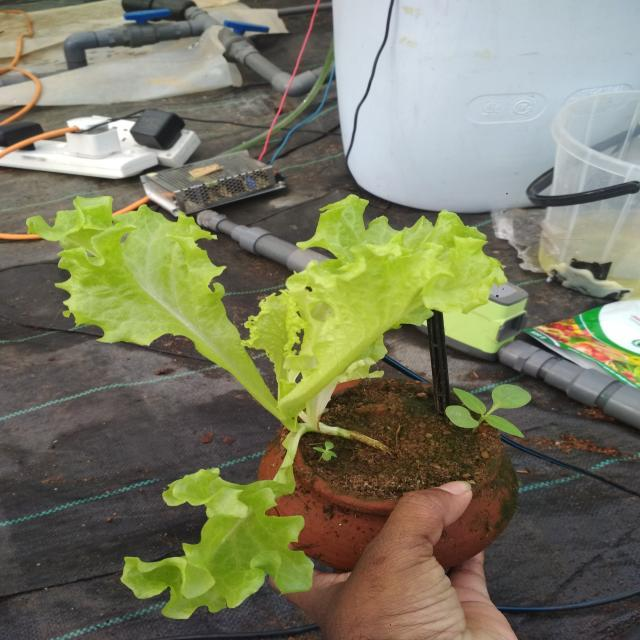Lettuce-Not-Ready-to-Harvest: (23, 196, 507, 622), (445, 384, 532, 439)
